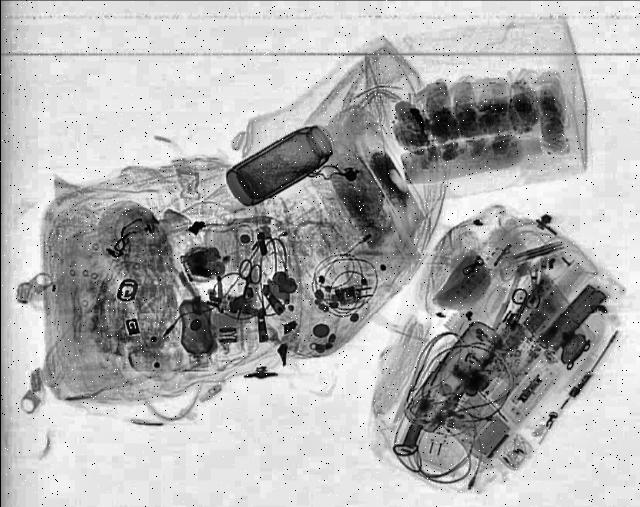Scissors: (221, 257, 263, 321)
